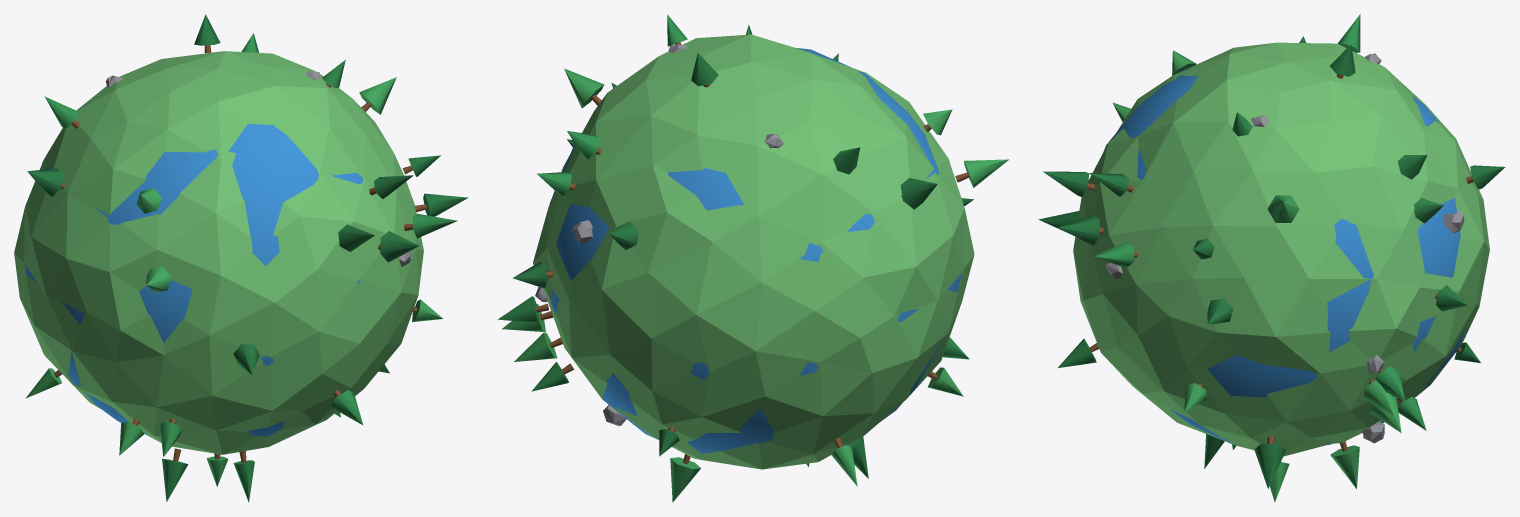
File: planet.glb
3 renders of one model, left to right at view 1: azimuth 30°, elevation 25°; view 2: azimuth 150°, elevation 25°; view 3: azimuth 270°, elevation 25°, orthographic. The views are drawn at different scales.
Visible parts, largest first — view 1: ground, water, planet; view 2: ground, planet, water; view 3: ground, planet, water.
Part boxes in pixels (box(x1,y1,x2,y2)): ground: box(14, 51, 423, 454); water: box(25, 124, 396, 436); planet: box(25, 14, 468, 502); ground: box(533, 34, 974, 469); planet: box(498, 14, 1008, 502); water: box(549, 48, 961, 453); ground: box(1073, 42, 1489, 456); planet: box(1038, 14, 1505, 502); water: box(1104, 68, 1465, 444).
Size of the model in its own units: 2.26 by 2.35 by 2.26.
